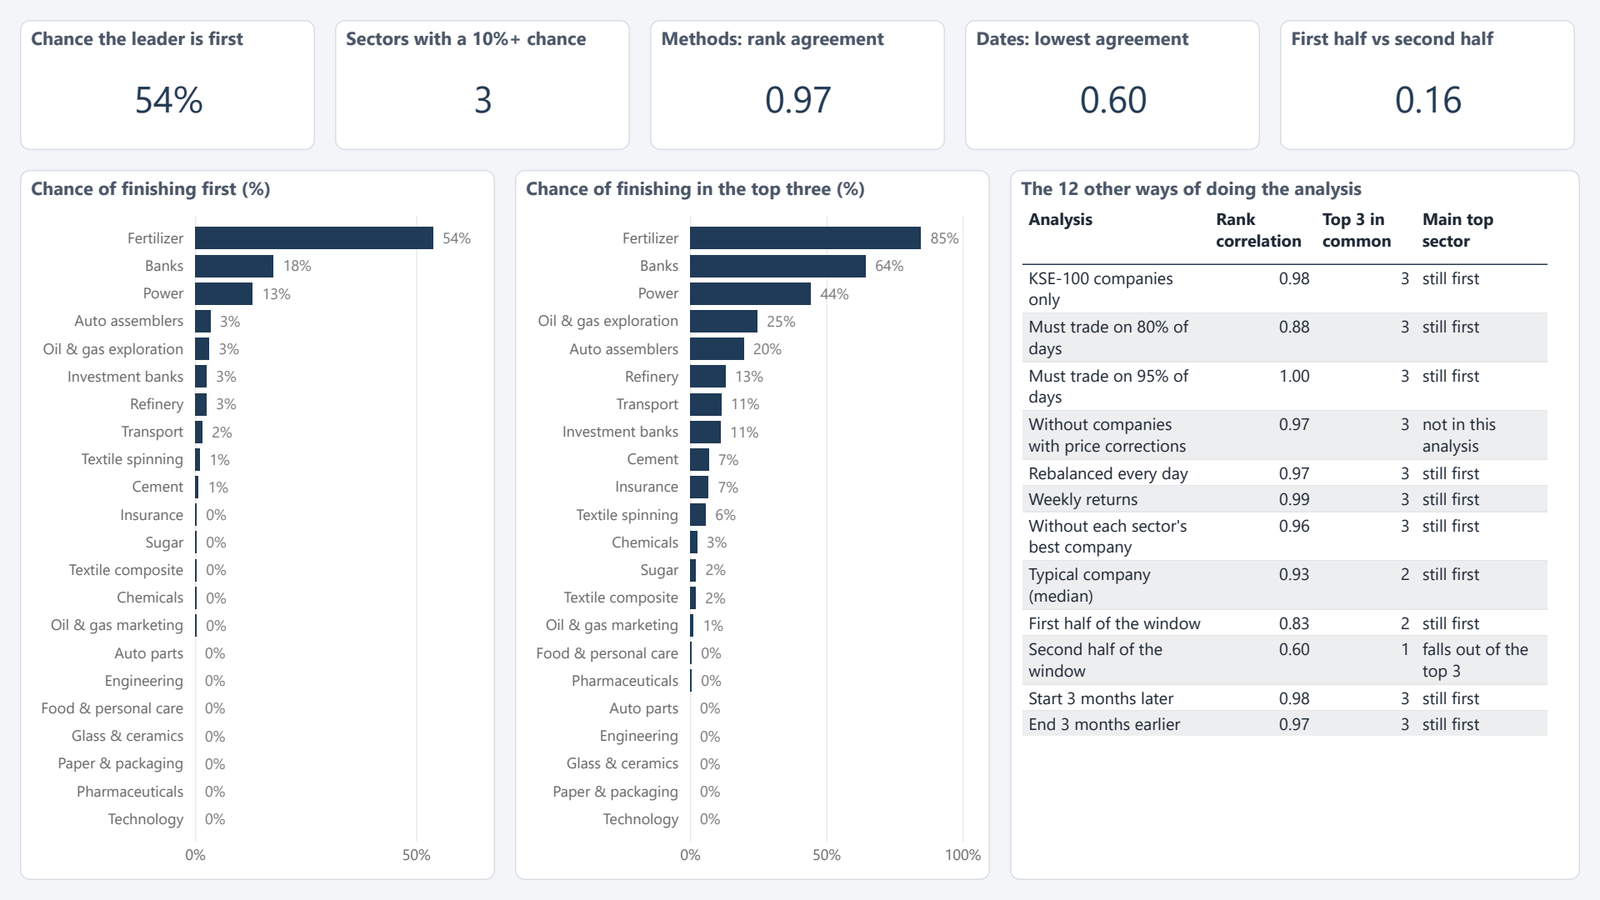

Layout of this report page (visuals, bound fields, positions):
{"tool":"powerbi","page":{"name":"How sure are we?","canvas":[1280,720],"ordinal":4},"visuals":[{"type":"card","title":"Chance the leader is first","fields":{"Values":["_Measures.Top Sector Chance of First"]},"box":[16,16,236,104],"z":0},{"type":"card","title":"Sectors with a 10%+ chance","fields":{"Values":["_Measures.Sectors With a 10% Chance of First"]},"box":[268,16,236,104],"z":1000},{"type":"card","title":"Methods: rank agreement","fields":{"Values":["_Measures.Method Rank Correlation (median)"]},"box":[520,16,236,104],"z":2000},{"type":"card","title":"Dates: lowest agreement","fields":{"Values":["_Measures.Date Rank Correlation (lowest)"]},"box":[772,16,236,104],"z":3000},{"type":"card","title":"First half vs second half","fields":{"Values":["_Measures.First vs Second Half Correlation"]},"box":[1024,16,236,104],"z":4000},{"type":"clusteredBarChart","title":"Chance of finishing first (%)","fields":{"Category":["sectors.short_name"],"Y":["_Measures.Chance of First"]},"box":[16,136,380,568],"z":5000},{"type":"clusteredBarChart","title":"Chance of finishing in the top three (%)","fields":{"Category":["sectors.short_name"],"Y":["_Measures.Chance of Top 3"]},"box":[412,136,380,568],"z":6000},{"type":"tableEx","title":"The 12 other ways of doing the analysis","fields":{"Values":["robustness_summary.choice","robustness_summary.rank_correlation","robustness_summary.top3_in_common","robustness_summary.main_top_sector"]},"box":[808,136,456,568],"z":7000}]}

Visuals, with their boxes in screenshot pixels (x1, y1, x2, y2), scaled from the page's 1280x720 canvas onto the 1600x900 screenshot:
"Chance the leader is first" card: region(20, 20, 315, 150)
"Sectors with a 10%+ chance" card: region(335, 20, 630, 150)
"Methods: rank agreement" card: region(650, 20, 945, 150)
"Dates: lowest agreement" card: region(965, 20, 1260, 150)
"First half vs second half" card: region(1280, 20, 1575, 150)
"Chance of finishing first (%)" clusteredBarChart: region(20, 170, 495, 880)
"Chance of finishing in the top three (%)" clusteredBarChart: region(515, 170, 990, 880)
"The 12 other ways of doing the analysis" tableEx: region(1010, 170, 1580, 880)
